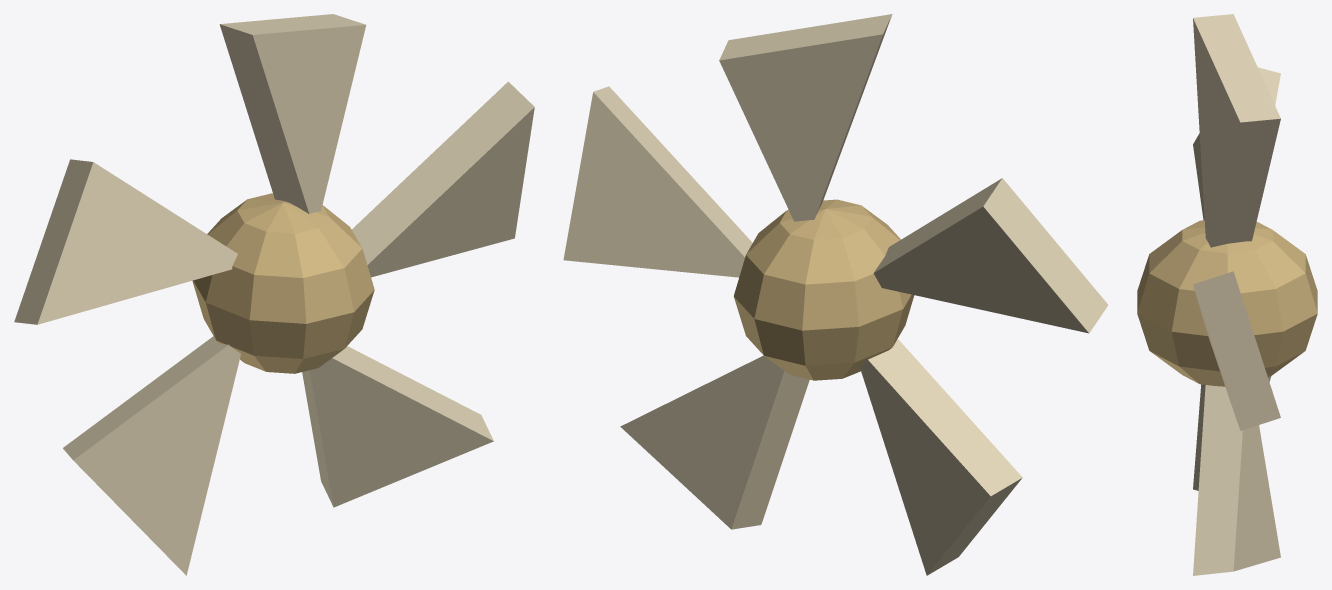
Rendered from marine-propeller.glb.
The picture shows the model from 3 angles, left to right: view 1: azimuth 30°, elevation 25°; view 2: azimuth 150°, elevation 25°; view 3: azimuth 270°, elevation 25°; orthographic projection. The views are drawn at different scales.
Visible parts, largest first — view 1: marine-propeller; view 2: marine-propeller; view 3: marine-propeller.
Part boxes in pixels (left/top/right/bottom): marine-propeller: left=14, top=14, right=534, bottom=575; marine-propeller: left=563, top=14, right=1108, bottom=575; marine-propeller: left=1137, top=14, right=1317, bottom=575.
Bounding box in the file's own units: 1.17 × 1.18 × 0.3804.
